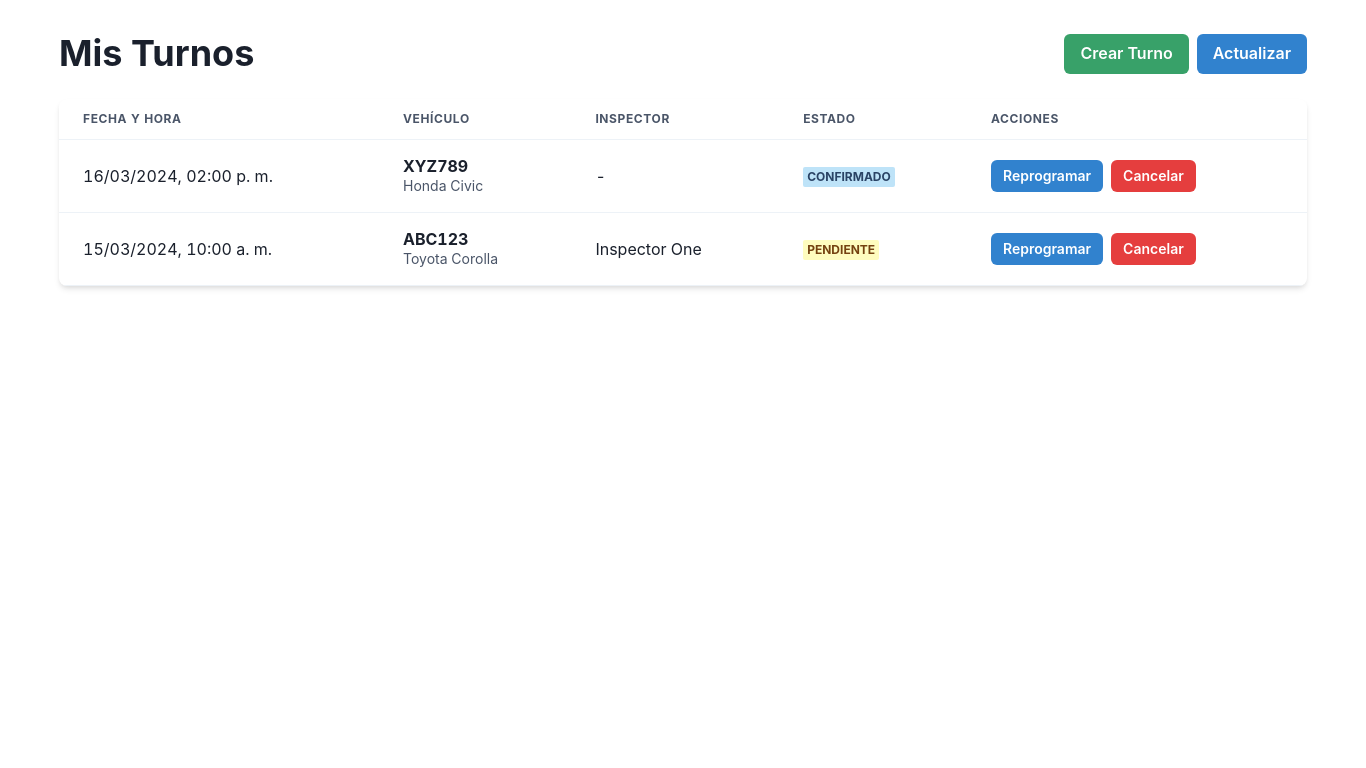
AppointmentManagementPage › as CLIENT › should open create modal when clicking create button
expect the text "ABC123" is shown: met, box [403, 229, 468, 249]
Click the button "Crear Turno": (1127, 54) [1064, 34, 1189, 74]
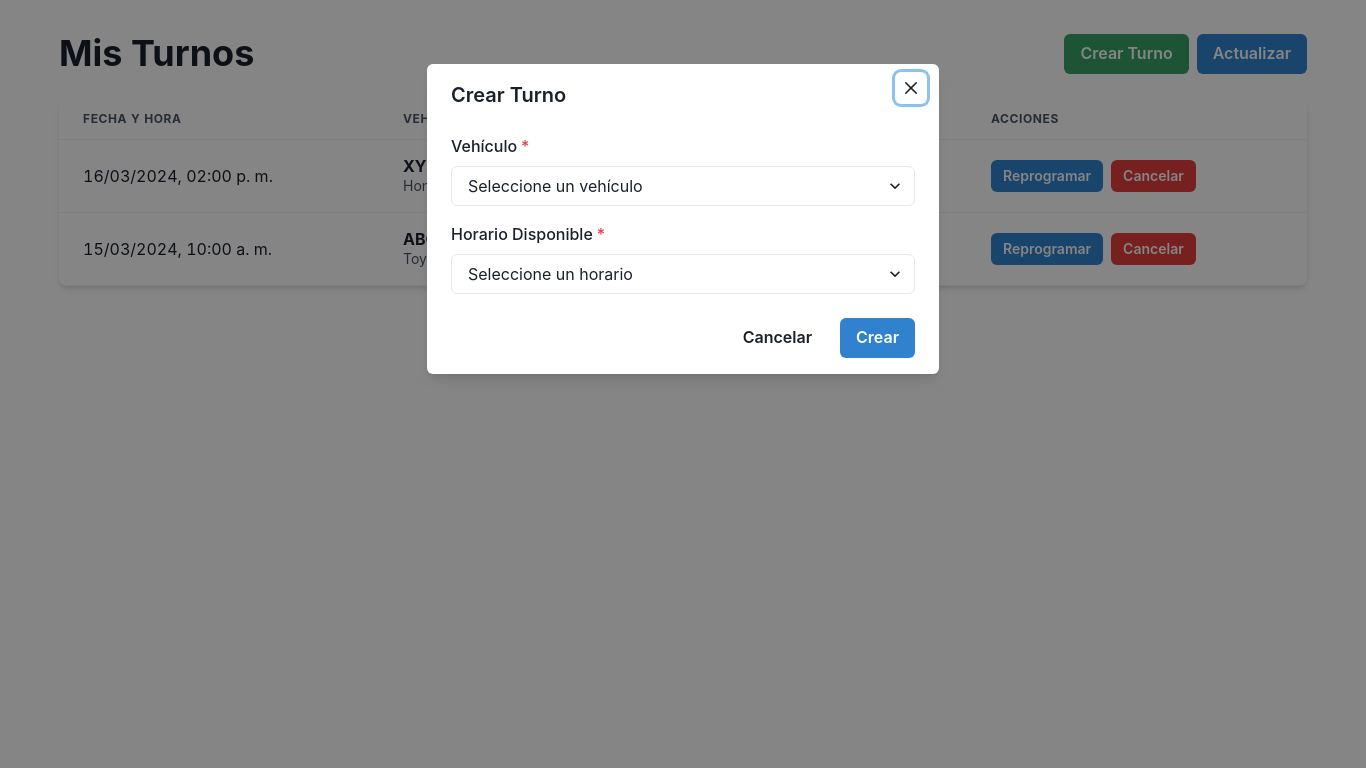
expect the dropdown labelled "Vehículo*" is shown: met, box [451, 166, 915, 206]
expect the dropdown labelled "Horario Disponible*" is shown: met, box [451, 254, 915, 294]
